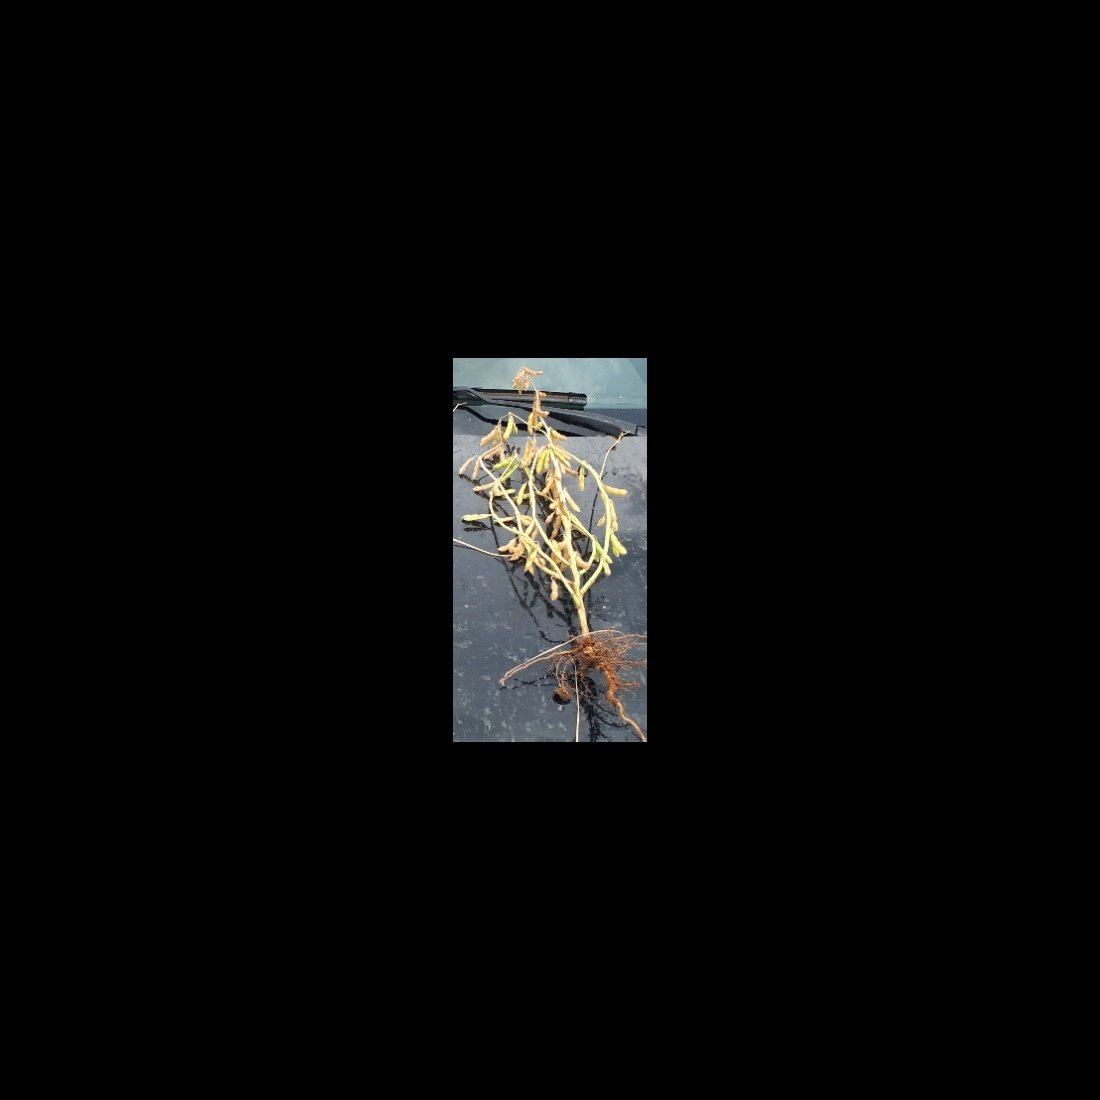pod: (609, 532, 629, 558), (563, 489, 580, 513), (601, 484, 629, 497), (462, 512, 490, 523), (549, 429, 569, 443), (548, 579, 560, 602), (472, 455, 482, 482), (504, 415, 513, 440)
soy: (454, 365, 636, 731)
